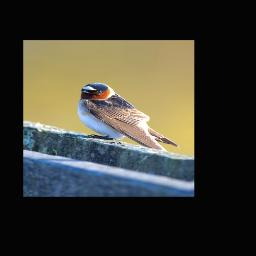Swallow: (75, 82, 182, 154)
